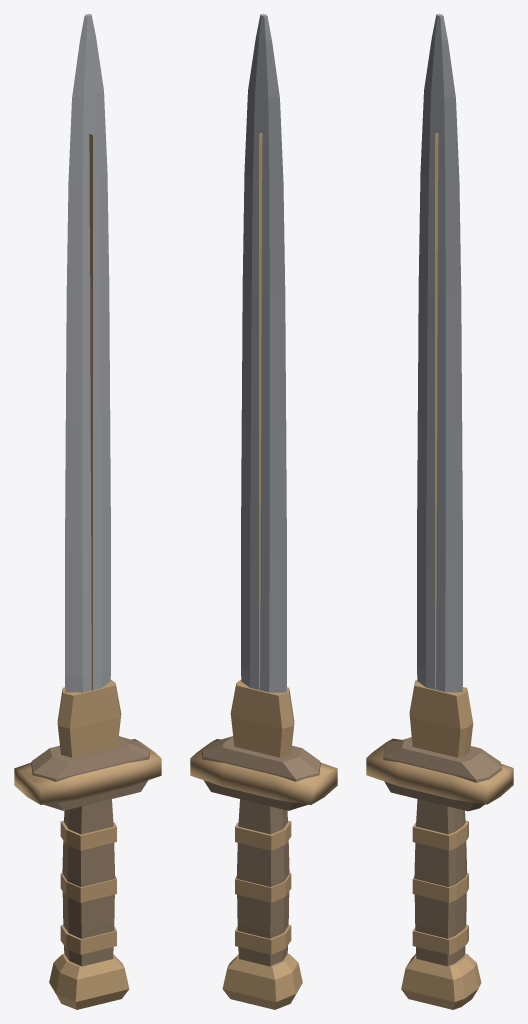
Rendered from wpn_ebony_sword.glb.
3 views of the same model, side by side, from view 1: azimuth 30°, elevation 25°; view 2: azimuth 150°, elevation 25°; view 3: azimuth 330°, elevation 25° (orthographic).
Parts seen in each view (by area): view 1: wpn_ebony_sword; view 2: wpn_ebony_sword; view 3: wpn_ebony_sword.
Part boxes in pixels (x1=…): wpn_ebony_sword: x1=14, y1=14, x2=161, y2=1009; wpn_ebony_sword: x1=190, y1=14, x2=337, y2=1009; wpn_ebony_sword: x1=366, y1=14, x2=513, y2=1009.
Size of the model in its own units: 0.136 by 1.06 by 0.056.
